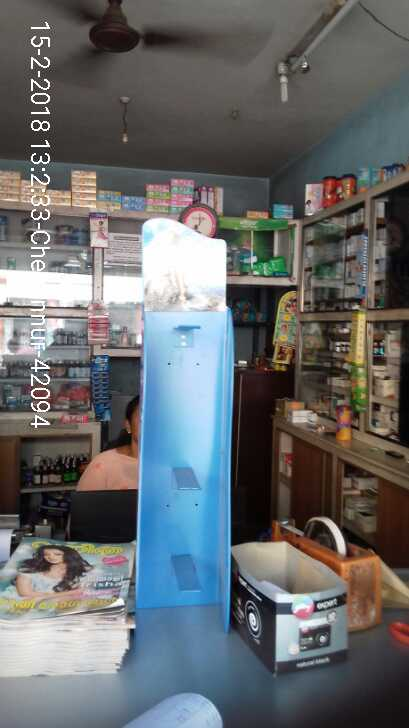reject: (101, 255, 150, 303)
